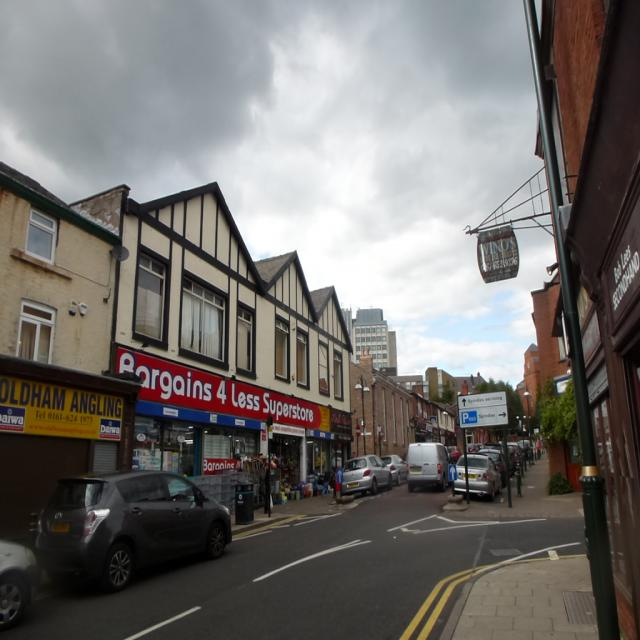other: (42, 468, 234, 589), (454, 439, 534, 503), (0, 538, 41, 634), (449, 451, 507, 492), (341, 452, 392, 496), (377, 454, 406, 485), (451, 445, 462, 458)
